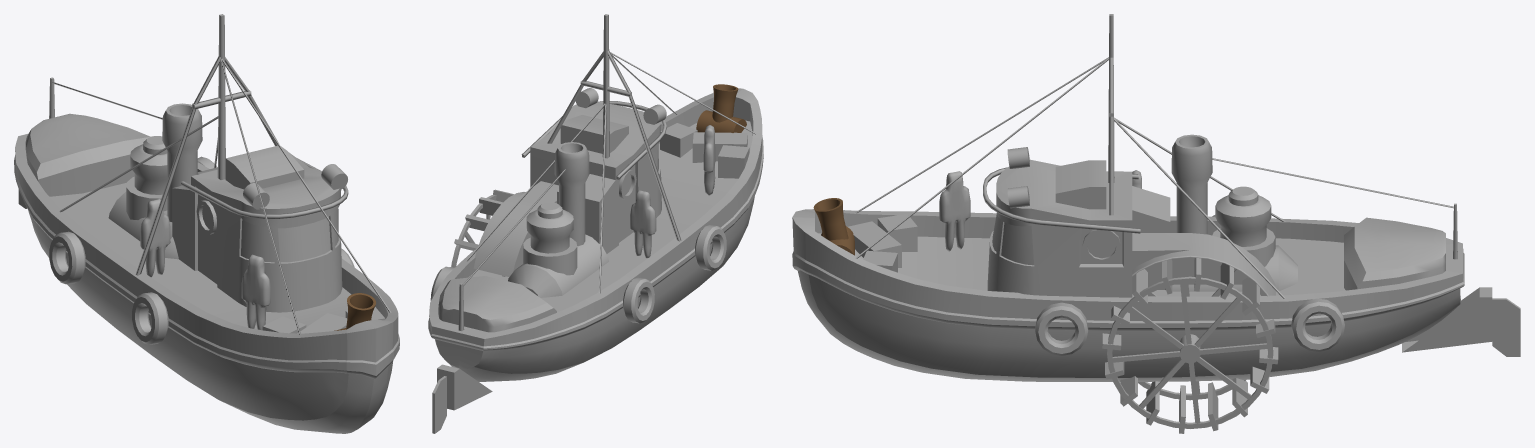
The model's file is NewShip 1.fbx.
The picture shows the model from 3 angles, left to right: view 1: azimuth 30°, elevation 25°; view 2: azimuth 150°, elevation 25°; view 3: azimuth 270°, elevation 25°; orthographic projection. The views are drawn at different scales.
Visible parts, largest first — view 1: NewBoat; view 2: NewBoat; view 3: NewBoat.
Part boxes in pixels (left/top/right/bottom): NewBoat: left=14, top=14, right=399, bottom=433; NewBoat: left=428, top=14, right=763, bottom=433; NewBoat: left=792, top=14, right=1520, bottom=433.
Bounding box in the file's own units: 5.2 × 8.62 × 15.46.
